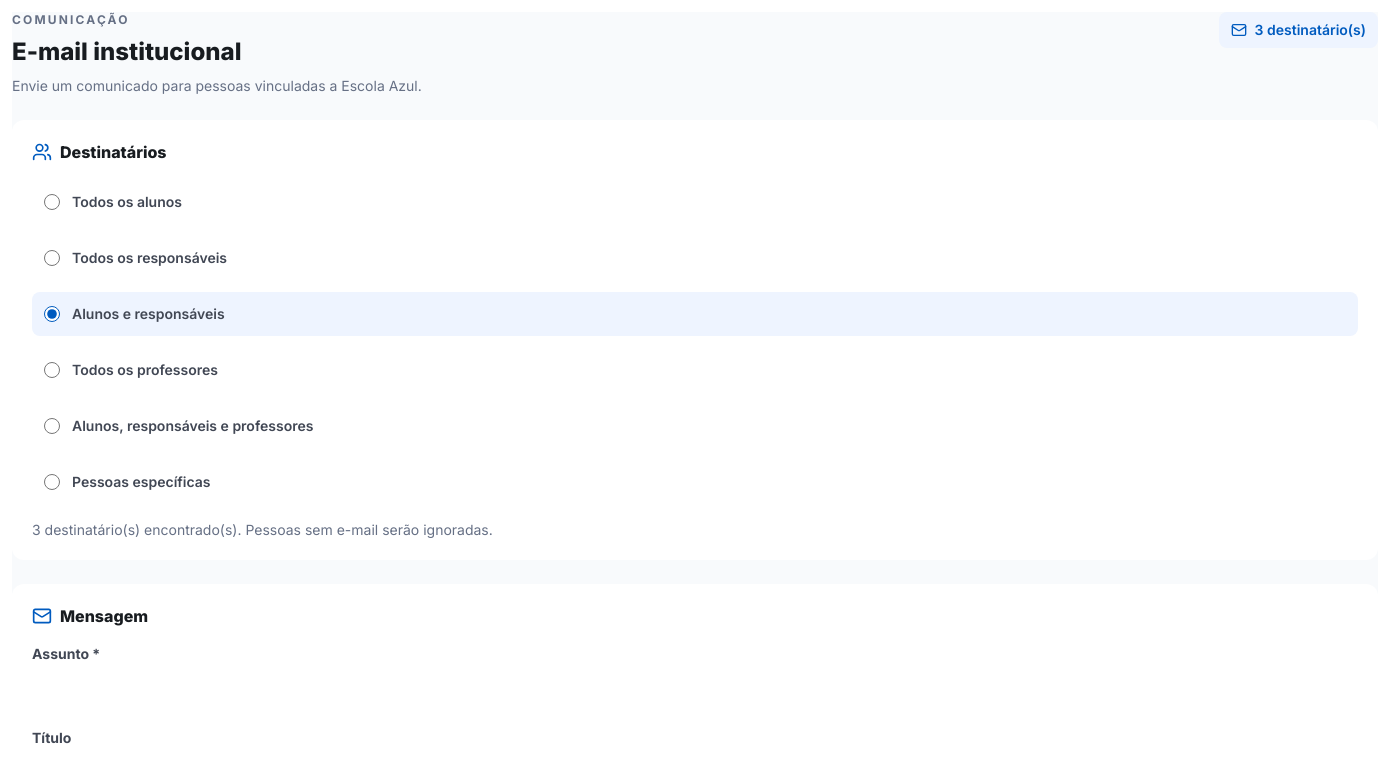
it: EmailTab › oferece todos os professores como destinatários
The image size is (1378, 757).
Click the radio button labelled "Todos os professores": (52, 370) [44,362,60,378]
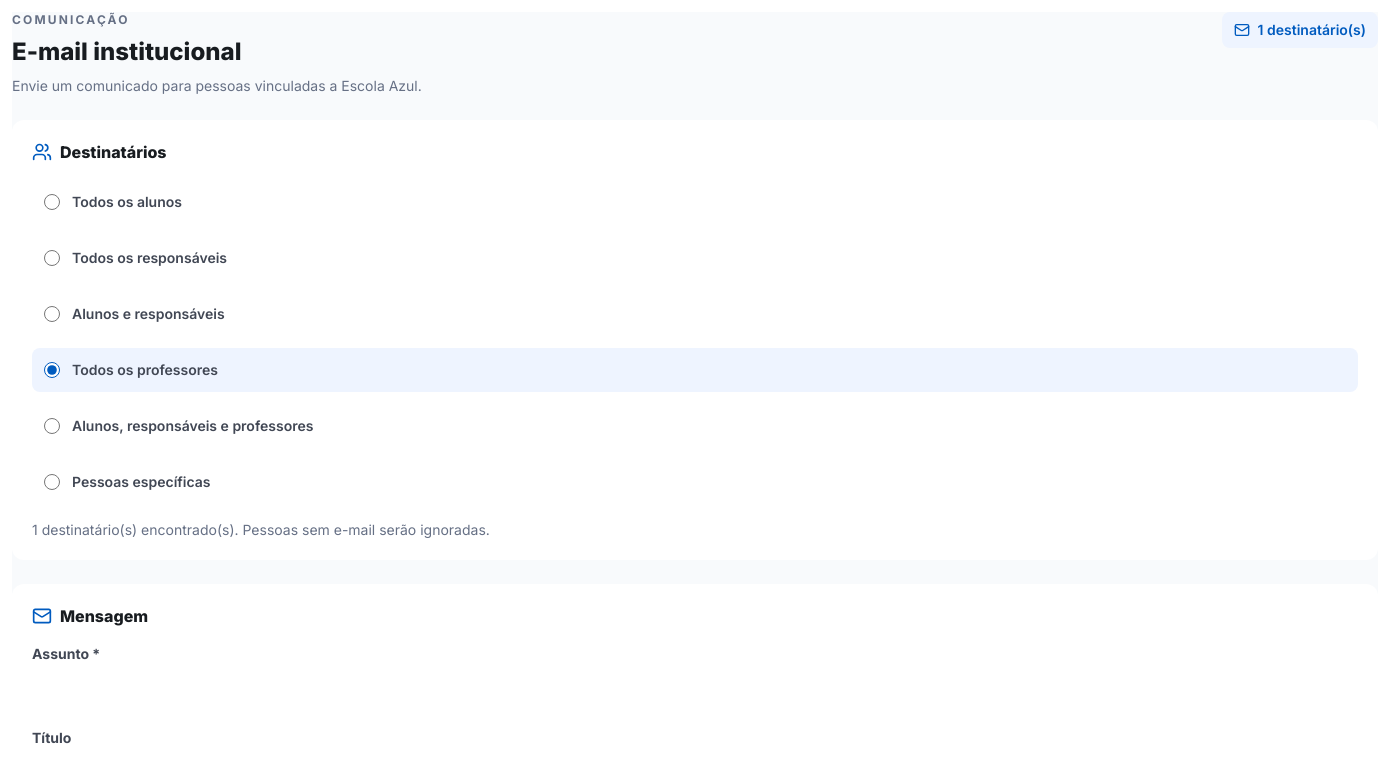
Check: the text "1 destinatário(s)" is shown, box [1222,12,1377,48]
